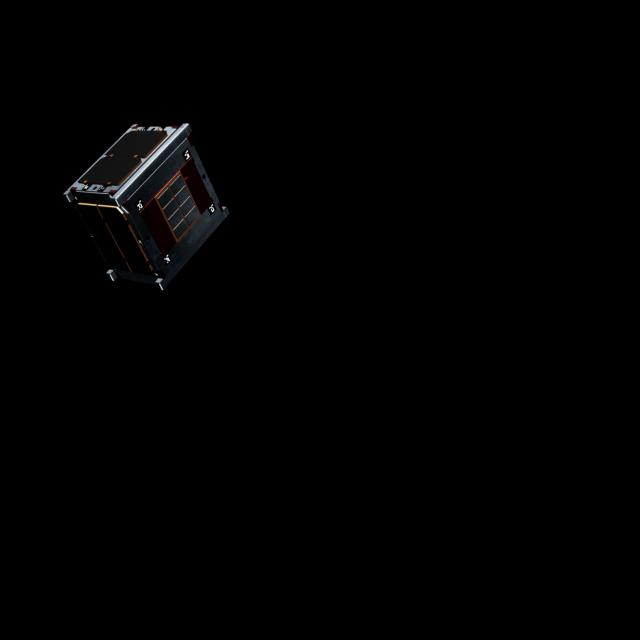satellite: (64, 120, 228, 305)
